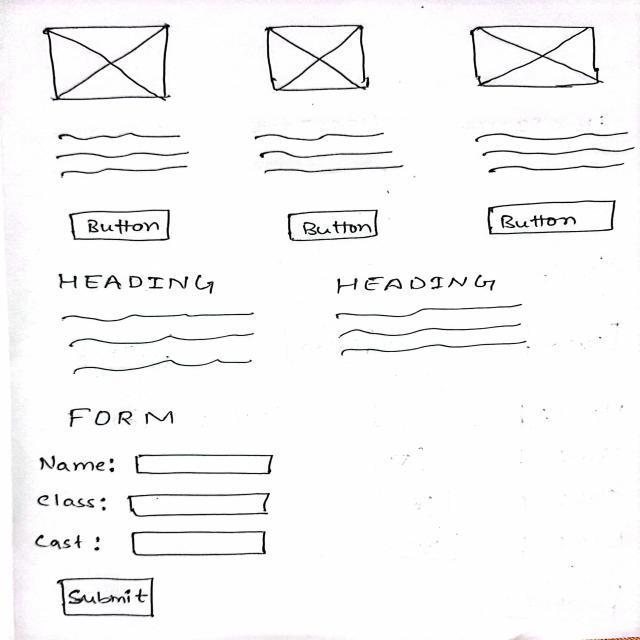button: (483, 197, 620, 238), (64, 206, 192, 248), (60, 577, 167, 623), (285, 203, 391, 247)
textbox: (122, 490, 280, 521), (124, 527, 273, 559), (133, 449, 284, 479)
